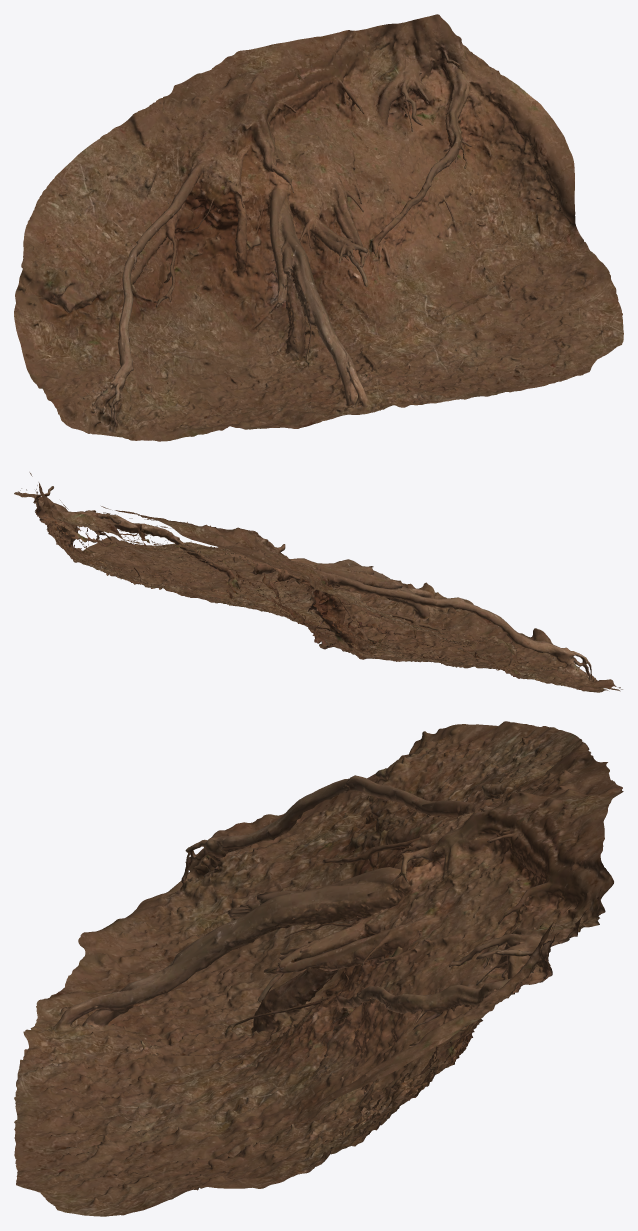
Rendered from polyhaven-root-cluster-01.glb.
3 views of the same model, one above another, from view 1: azimuth 30°, elevation 25°; view 2: azimuth 150°, elevation 25°; view 3: azimuth 270°, elevation 25° (orthographic). The views are drawn at different scales.
Parts seen in each view (by area): view 1: root_cluster_01_0; view 2: root_cluster_01_0; view 3: root_cluster_01_0.
Boxes of the visible parts, x1=… form: root_cluster_01_0: x1=14, y1=14, x2=623, y2=441; root_cluster_01_0: x1=14, y1=472, x2=622, y2=692; root_cluster_01_0: x1=14, y1=721, x2=623, y2=1216.
Bounding box in the file's own units: 4.12 × 1.51 × 2.68.
Materials: 1 (1 with a texture image).
